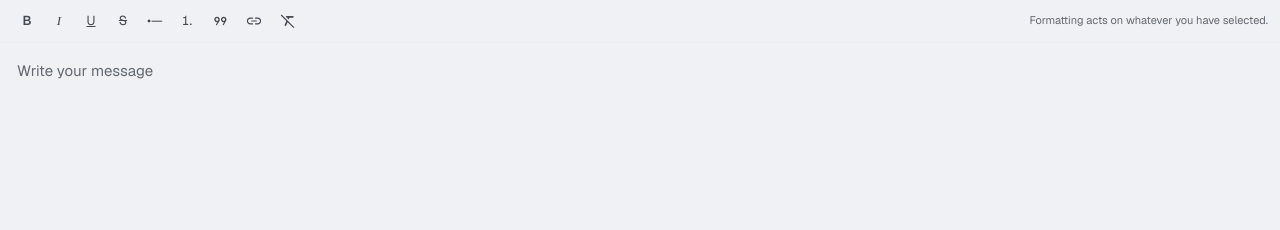
WrittenMessage, the formatting bar › makes the link once the address is written
The image size is (1280, 230).
Click the button named "Insert a link" at [254, 21], box 238,6 -> 270,36
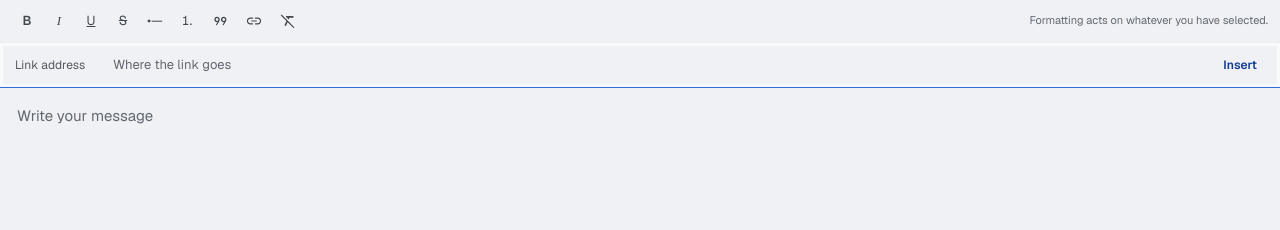
Type "https://example.invalid/invoice" into the field labelled "Link address" at [659, 65], box 113,55 -> 1205,75
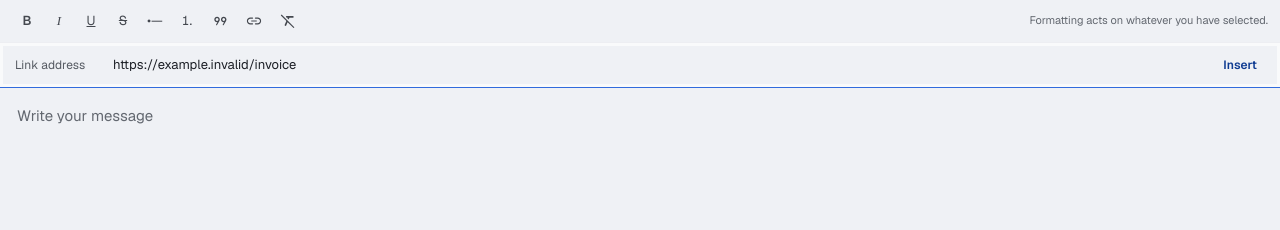
Press Enter in the field labelled "Link address", box 113,55 -> 1205,75
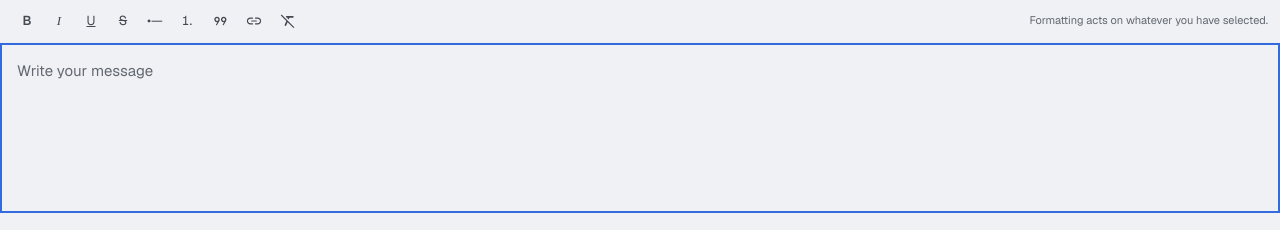
Result: the label labelled "Link address" is gone
